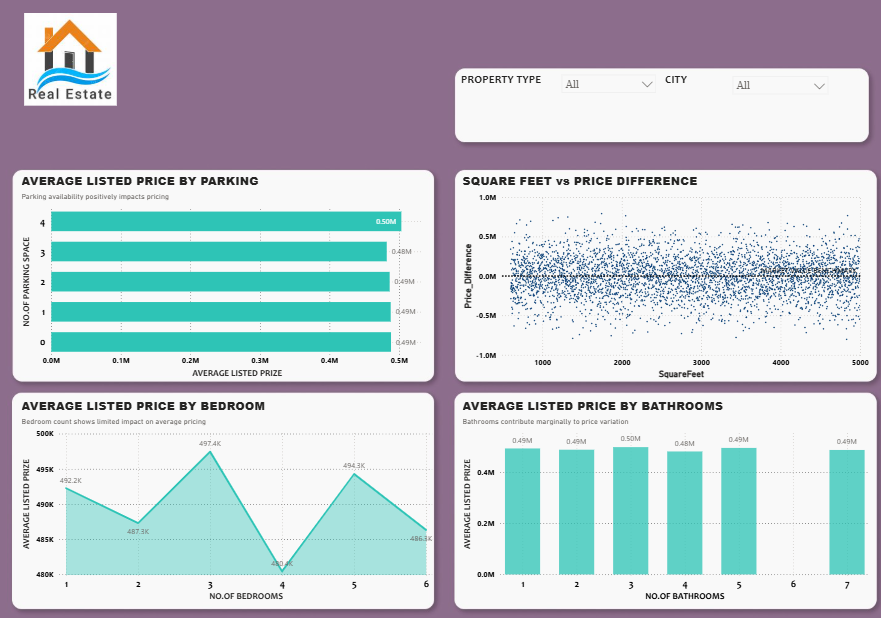

This screenshot's page, from the dashboard's own definition file:
{"tool":"powerbi","page":{"name":"PROPERTY FEATURES IMPACT","canvas":[1440,1024],"ordinal":2},"visuals":[{"type":"areaChart","title":"AVERAGE LISTED PRICE BY BEDROOM","fields":{"Category":["Properties.Bedrooms"],"Y":["Measure_Table.Avg_Listed_Price"]},"box":[37.5,652.5,677.5,337.5],"z":0},{"type":"scatterChart","title":"SQUARE FEET vs PRICE DIFFERENCE","fields":{"X":["Properties.SquareFeet"],"Y":["Measure_Table.Price_Difference"]},"box":[752.5,287.5,670,340],"z":1000},{"type":"columnChart","title":"AVERAGE LISTED PRICE BY BATHROOMS","fields":{"Y":["Measure_Table.Avg_Listed_Price"],"Category":["Properties.Bathrooms"]},"box":[752.5,652.5,670,337.5],"z":2000},{"type":"clusteredBarChart","title":"AVERAGE LISTED PRICE BY PARKING","fields":{"Category":["Properties.ParkingSpaces"],"Y":["Measure_Table.Avg_Listed_Price"]},"box":[37.5,287.5,677.5,340],"z":3000},{"type":"slicer","title":"CITY","fields":{"Values":["Properties.City"]},"box":[1187.1,120.8,175.4,52.4],"z":4000},{"type":"slicer","title":" PROPERTY TYPE","fields":{"Values":["Properties.PropertyType"]},"box":[909.1,118.5,173.2,47.8],"z":5000},{"type":"textbox","box":[751.9,118.5,154.9,52.4],"z":6000},{"type":"textbox","box":[1082.3,118.5,63.8,47.8],"z":7000},{"type":"image","box":[25.1,29.6,193.7,150.4],"z":8000}]}

Visuals, with their boxes in screenshot pixels (x1, y1, x2, y2), scaled from the page's 1440x1024 canvas onto the 881x618 screenshot:
"AVERAGE LISTED PRICE BY BEDROOM" areaChart: pyautogui.locateOnScreen(23, 394, 437, 597)
"SQUARE FEET vs PRICE DIFFERENCE" scatterChart: pyautogui.locateOnScreen(460, 174, 870, 379)
"AVERAGE LISTED PRICE BY BATHROOMS" columnChart: pyautogui.locateOnScreen(460, 394, 870, 597)
"AVERAGE LISTED PRICE BY PARKING" clusteredBarChart: pyautogui.locateOnScreen(23, 174, 437, 379)
"CITY" slicer: pyautogui.locateOnScreen(726, 73, 834, 105)
" PROPERTY TYPE" slicer: pyautogui.locateOnScreen(556, 72, 662, 100)
textbox: pyautogui.locateOnScreen(460, 72, 555, 103)
textbox: pyautogui.locateOnScreen(662, 72, 701, 100)
image: pyautogui.locateOnScreen(15, 18, 134, 109)
